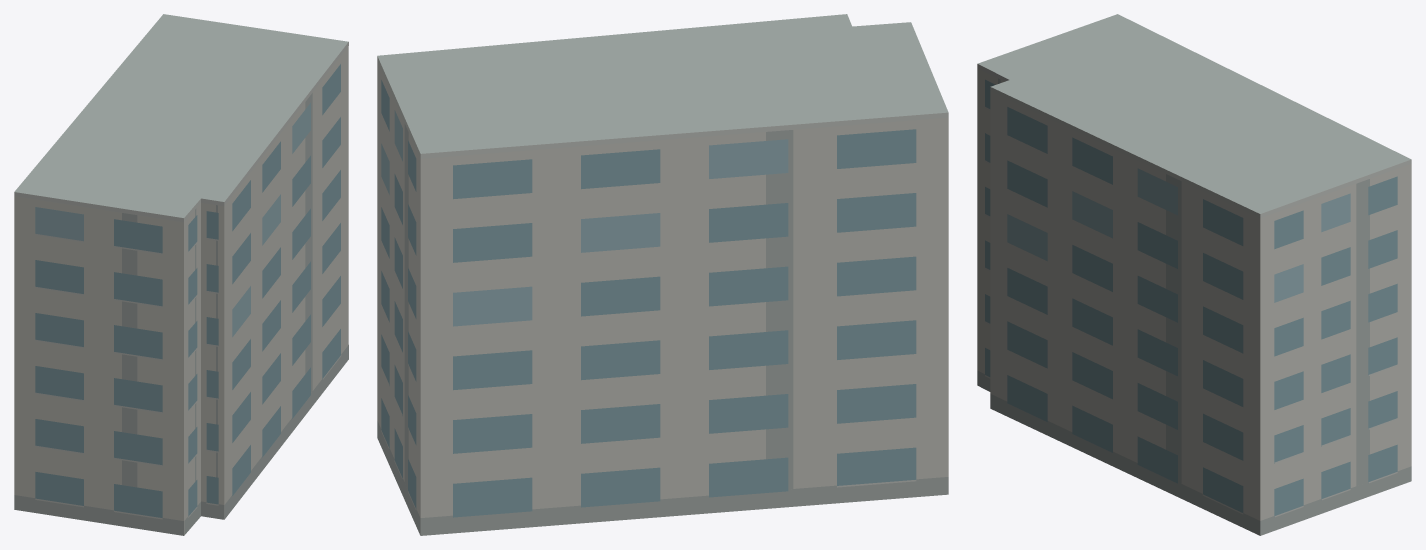
Rendered from survey-upis-32786477.glb.
3 renders of one model, left to right at view 1: azimuth 30°, elevation 25°; view 2: azimuth 150°, elevation 25°; view 3: azimuth 270°, elevation 25°, orthographic. The views are drawn at different scales.
Visible parts, largest first — view 1: survey-upis-32786477.tmp; view 2: survey-upis-32786477.tmp; view 3: survey-upis-32786477.tmp.
Boxes of the visible parts, x1=… form: survey-upis-32786477.tmp: x1=14, y1=14, x2=348, y2=535; survey-upis-32786477.tmp: x1=377, y1=14, x2=948, y2=535; survey-upis-32786477.tmp: x1=977, y1=14, x2=1411, y2=535.
Size of the model in its own units: 24.41 by 18.3 by 22.38.
